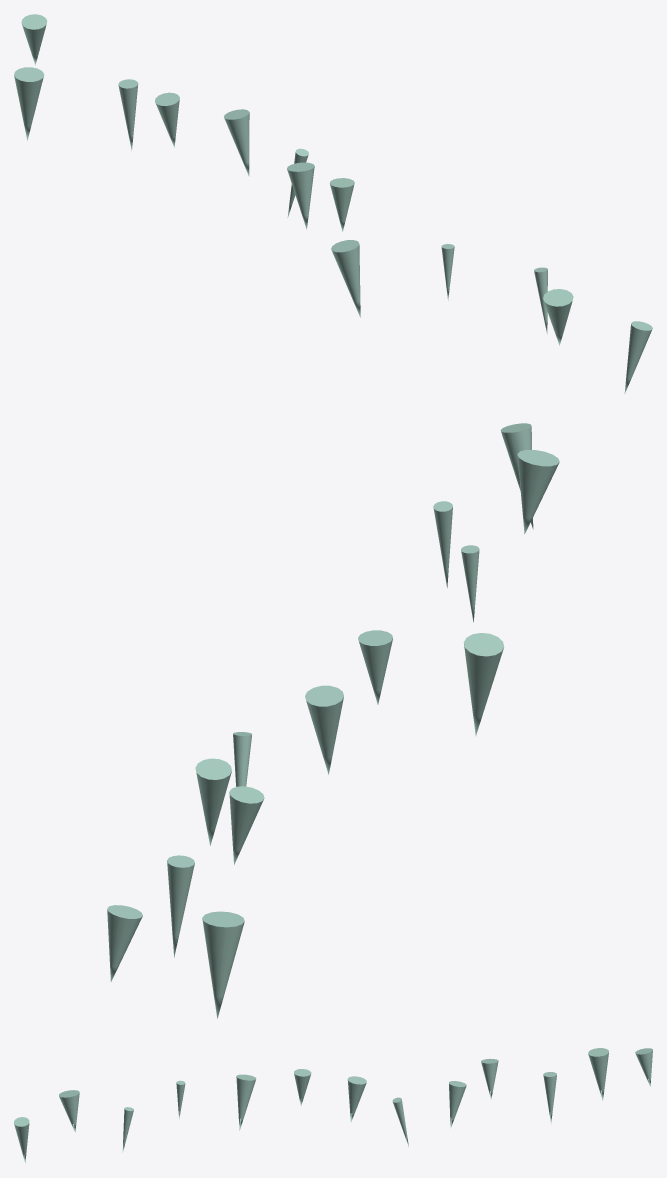
File: set_lakebed_shafts.fbx
The picture shows the model from 3 angles, top to bottom: view 1: azimuth 30°, elevation 25°; view 2: azimuth 150°, elevation 25°; view 3: azimuth 270°, elevation 25°; orthographic projection. The views are drawn at different scales.
Parts seen in each view (by area): view 1: set_lakebed_shafts; view 2: set_lakebed_shafts; view 3: set_lakebed_shafts.
Boxes of the visible parts, <box> form: set_lakebed_shafts: <box>14,14,652,393</box>; set_lakebed_shafts: <box>107,423,559,1018</box>; set_lakebed_shafts: <box>14,1048,652,1162</box>.
Size of the model in its own units: 2670 by 1114 by 9344.
